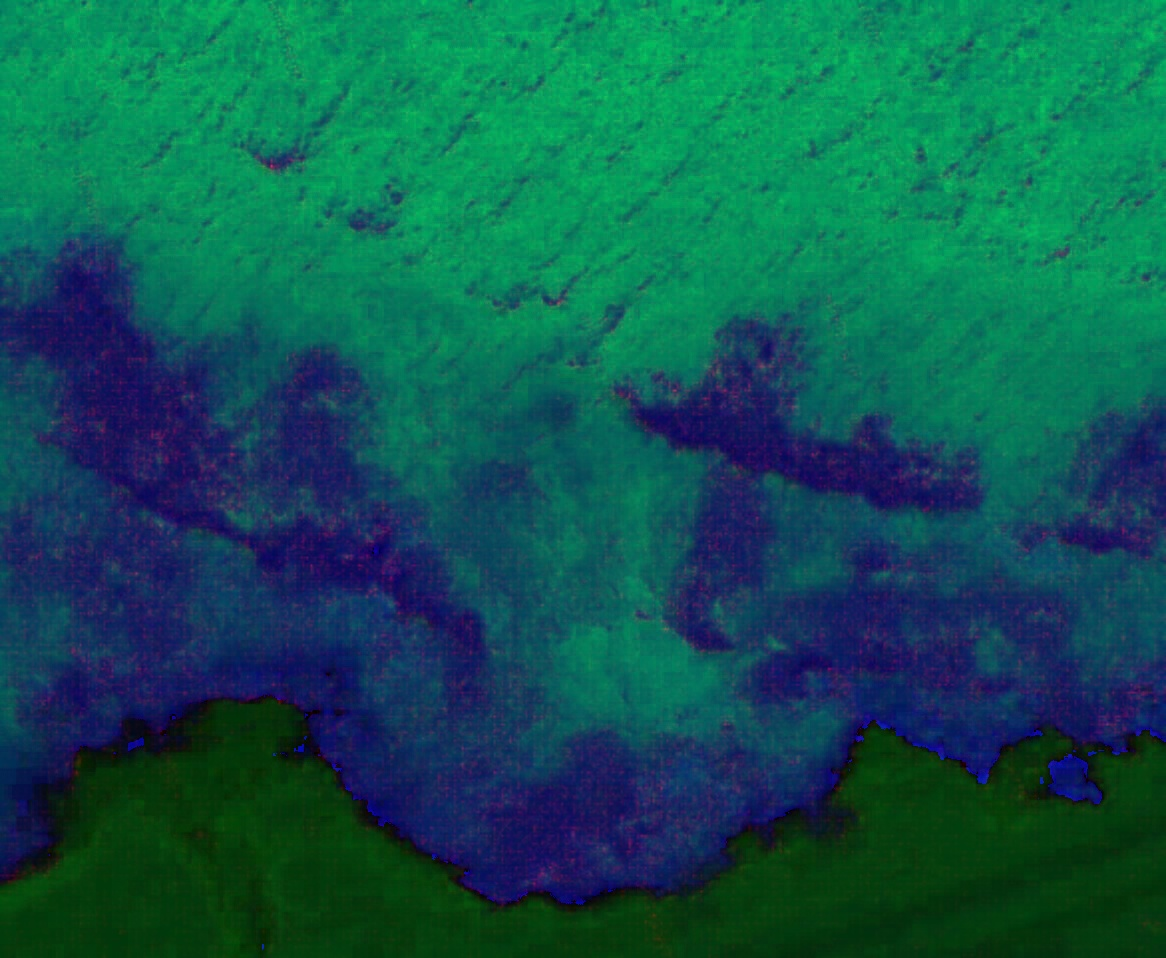rip_current: (434, 282, 756, 782)
